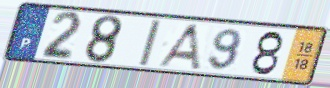2: (39, 10, 83, 62)
8: (84, 14, 125, 65), (251, 30, 284, 76)
9: (205, 27, 247, 71)
A: (154, 22, 203, 72)
I: (137, 18, 164, 67)
